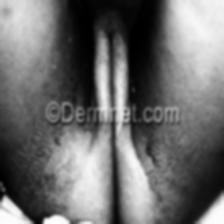Toxin: (142, 142, 165, 158), (51, 140, 66, 152)
